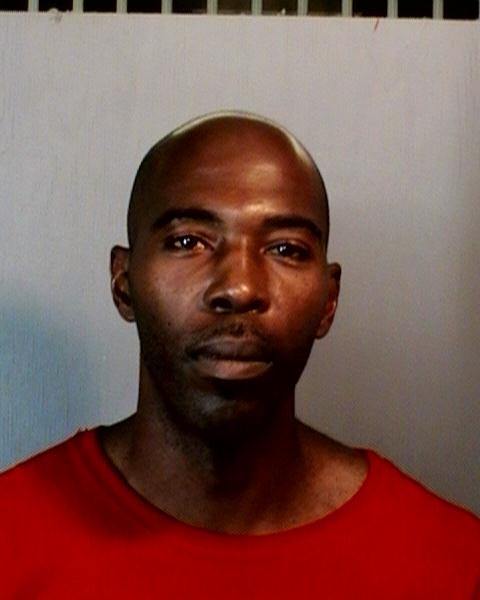face: (112, 111, 345, 421)
